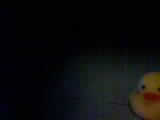duck: (128, 72, 154, 107)
